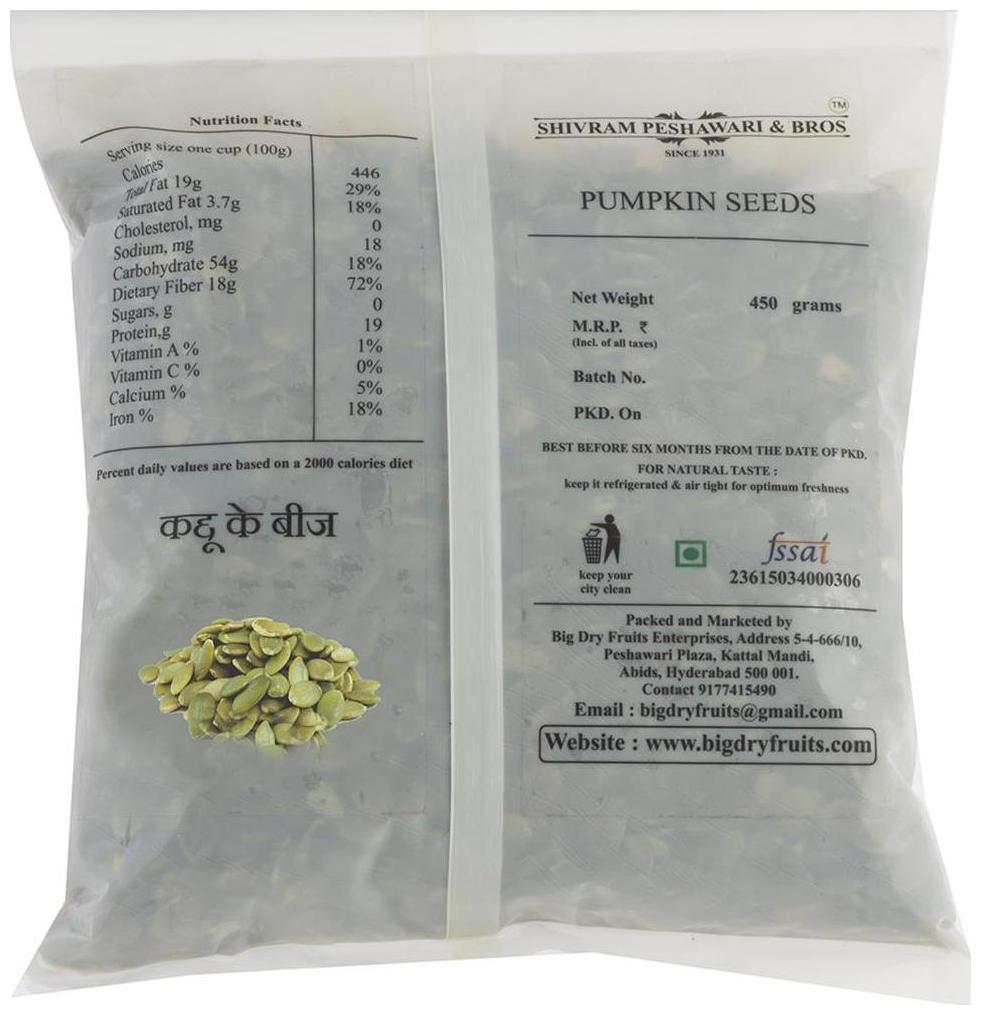fssai: (760, 530, 835, 566)
